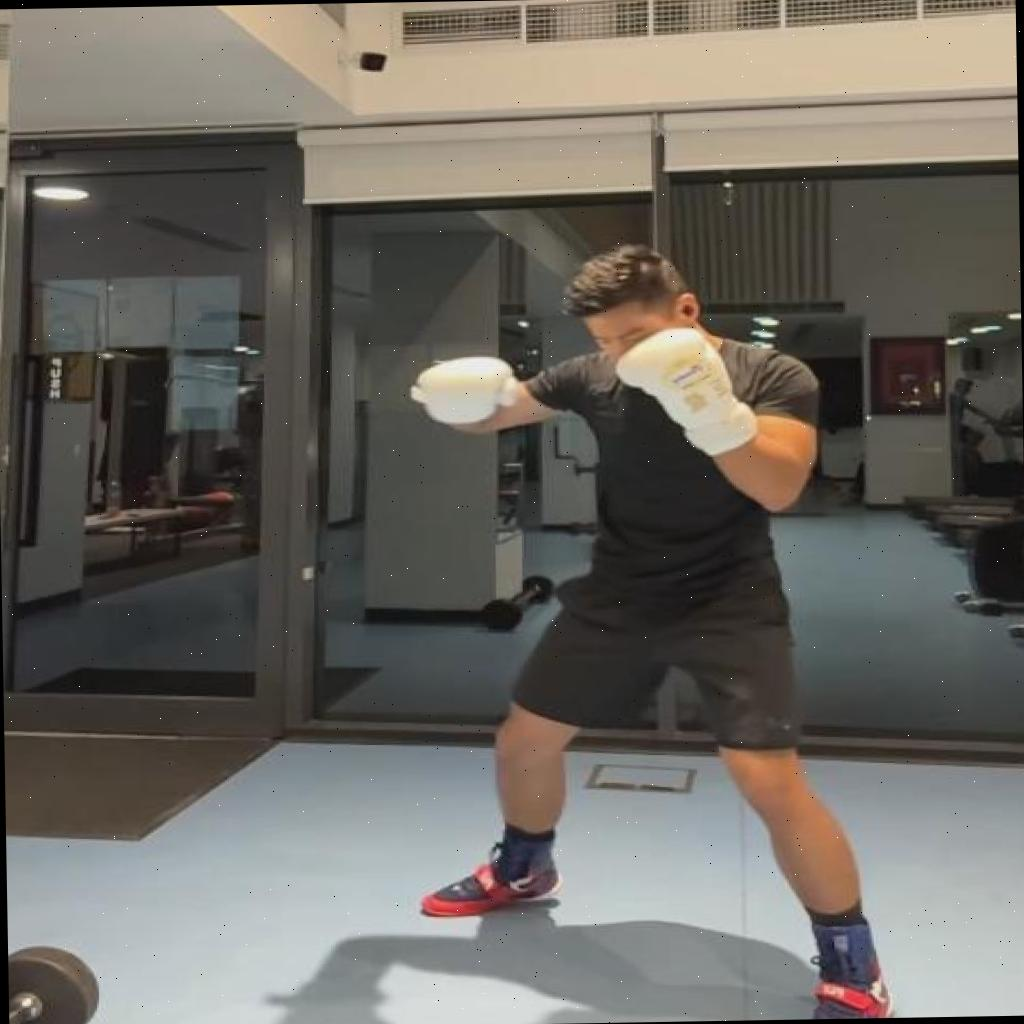hook: (403, 233, 896, 1024)
